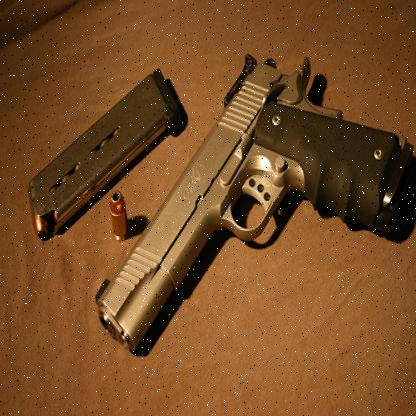pistol: (94, 50, 413, 355)
